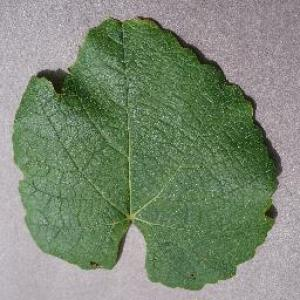Folha: (11, 14, 280, 291)
